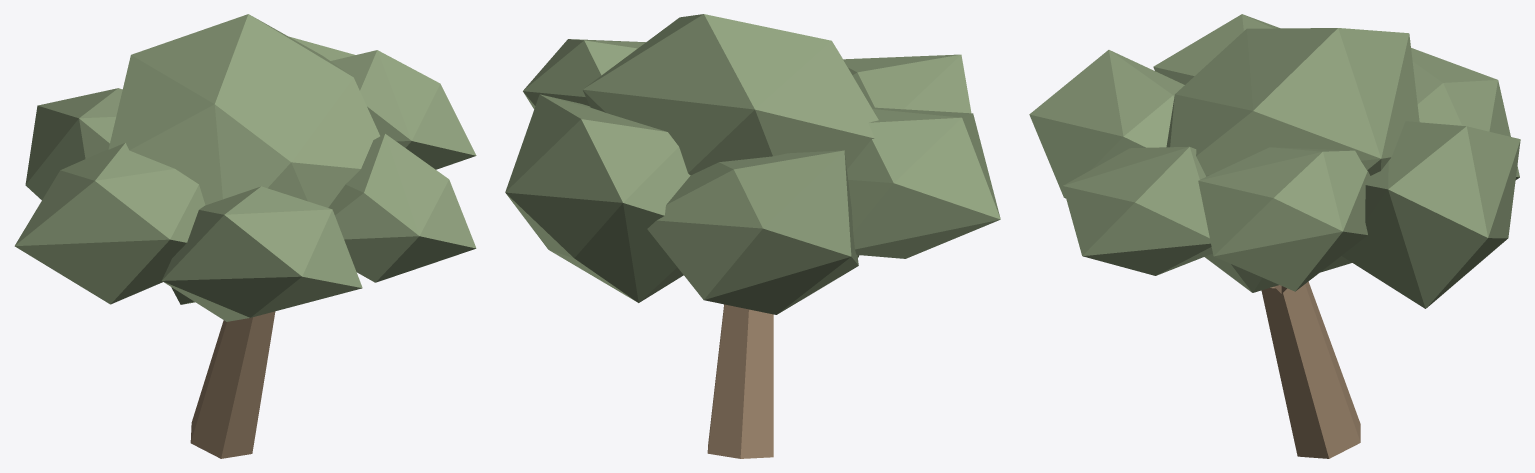
Rendered from tree_genolive1.glb.
The picture shows the model from 3 angles, left to right: view 1: azimuth 30°, elevation 25°; view 2: azimuth 150°, elevation 25°; view 3: azimuth 270°, elevation 25°; orthographic projection. The views are drawn at different scales.
Visible parts, largest first — view 1: hull; view 2: hull; view 3: hull.
Boxes of the visible parts, <box> form: hull: <box>14,14,476,458</box>; hull: <box>505,14,1000,458</box>; hull: <box>1029,14,1520,458</box>.
Bounding box in the file's own units: 5.16 × 4.85 × 4.95.
